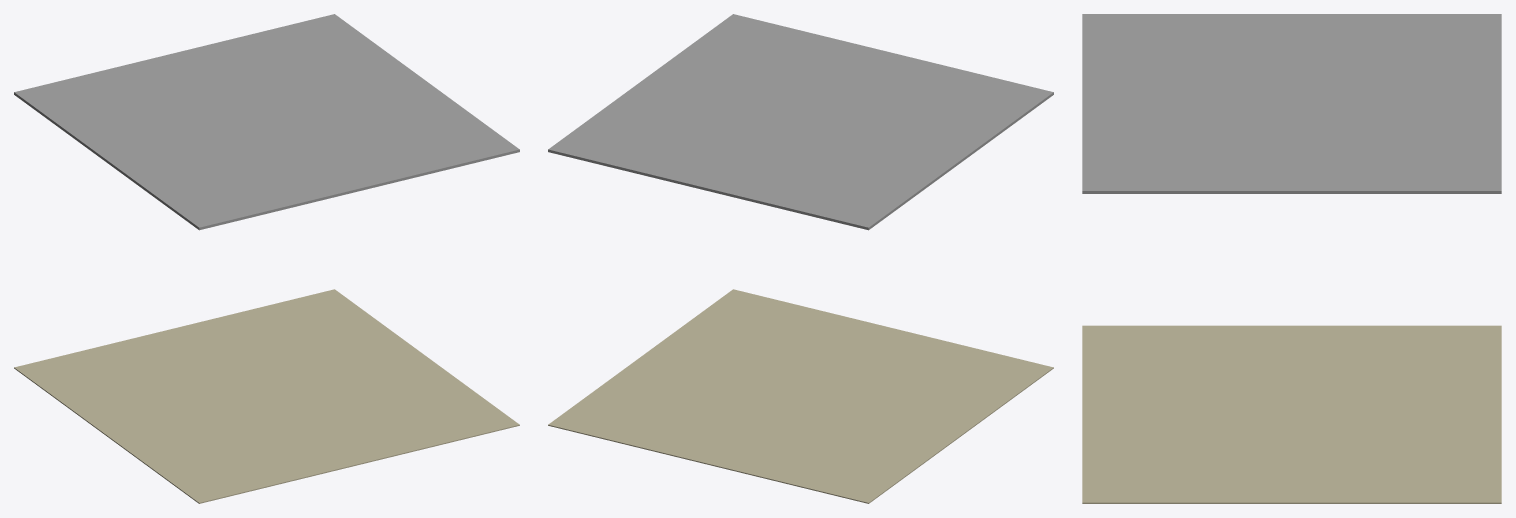
The model's file is tile11.gltf.
The picture shows the model from 3 angles, left to right: view 1: azimuth 30°, elevation 25°; view 2: azimuth 150°, elevation 25°; view 3: azimuth 270°, elevation 25°; orthographic projection. The views are drawn at different scales.
Visible parts, largest first — view 1: cube (×2); view 2: cube (×2); view 3: cube (×2).
Part boxes in pixels (x1,y1,x2,y2): cube (×2): [14, 14, 519, 503]; cube (×2): [548, 14, 1053, 503]; cube (×2): [1082, 14, 1501, 503].
Size of the model in its own units: 1 by 0.8234 by 1.
1 material, 1 textured.
